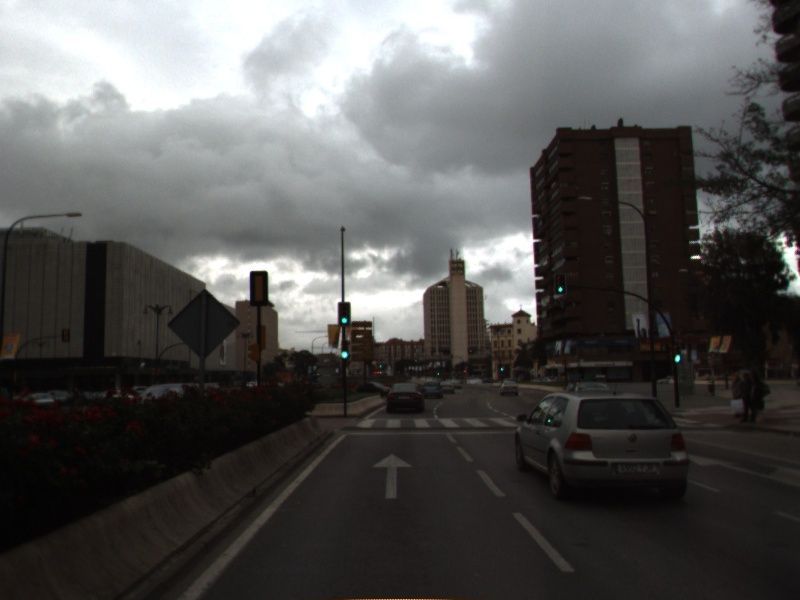STRAIGHT: (369, 451, 415, 501)
STRAIGHT_RIGHT: (686, 452, 800, 490)
